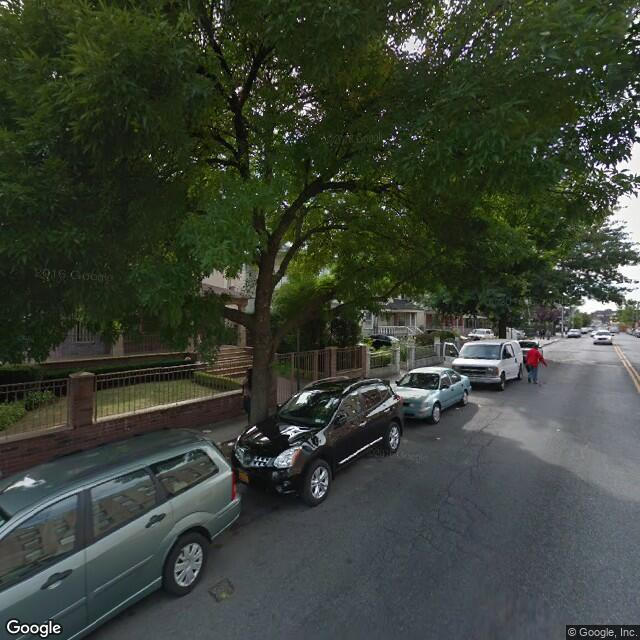litter: (199, 427, 213, 432), (475, 403, 483, 411), (553, 425, 563, 430), (433, 436, 441, 441), (453, 403, 458, 408)
